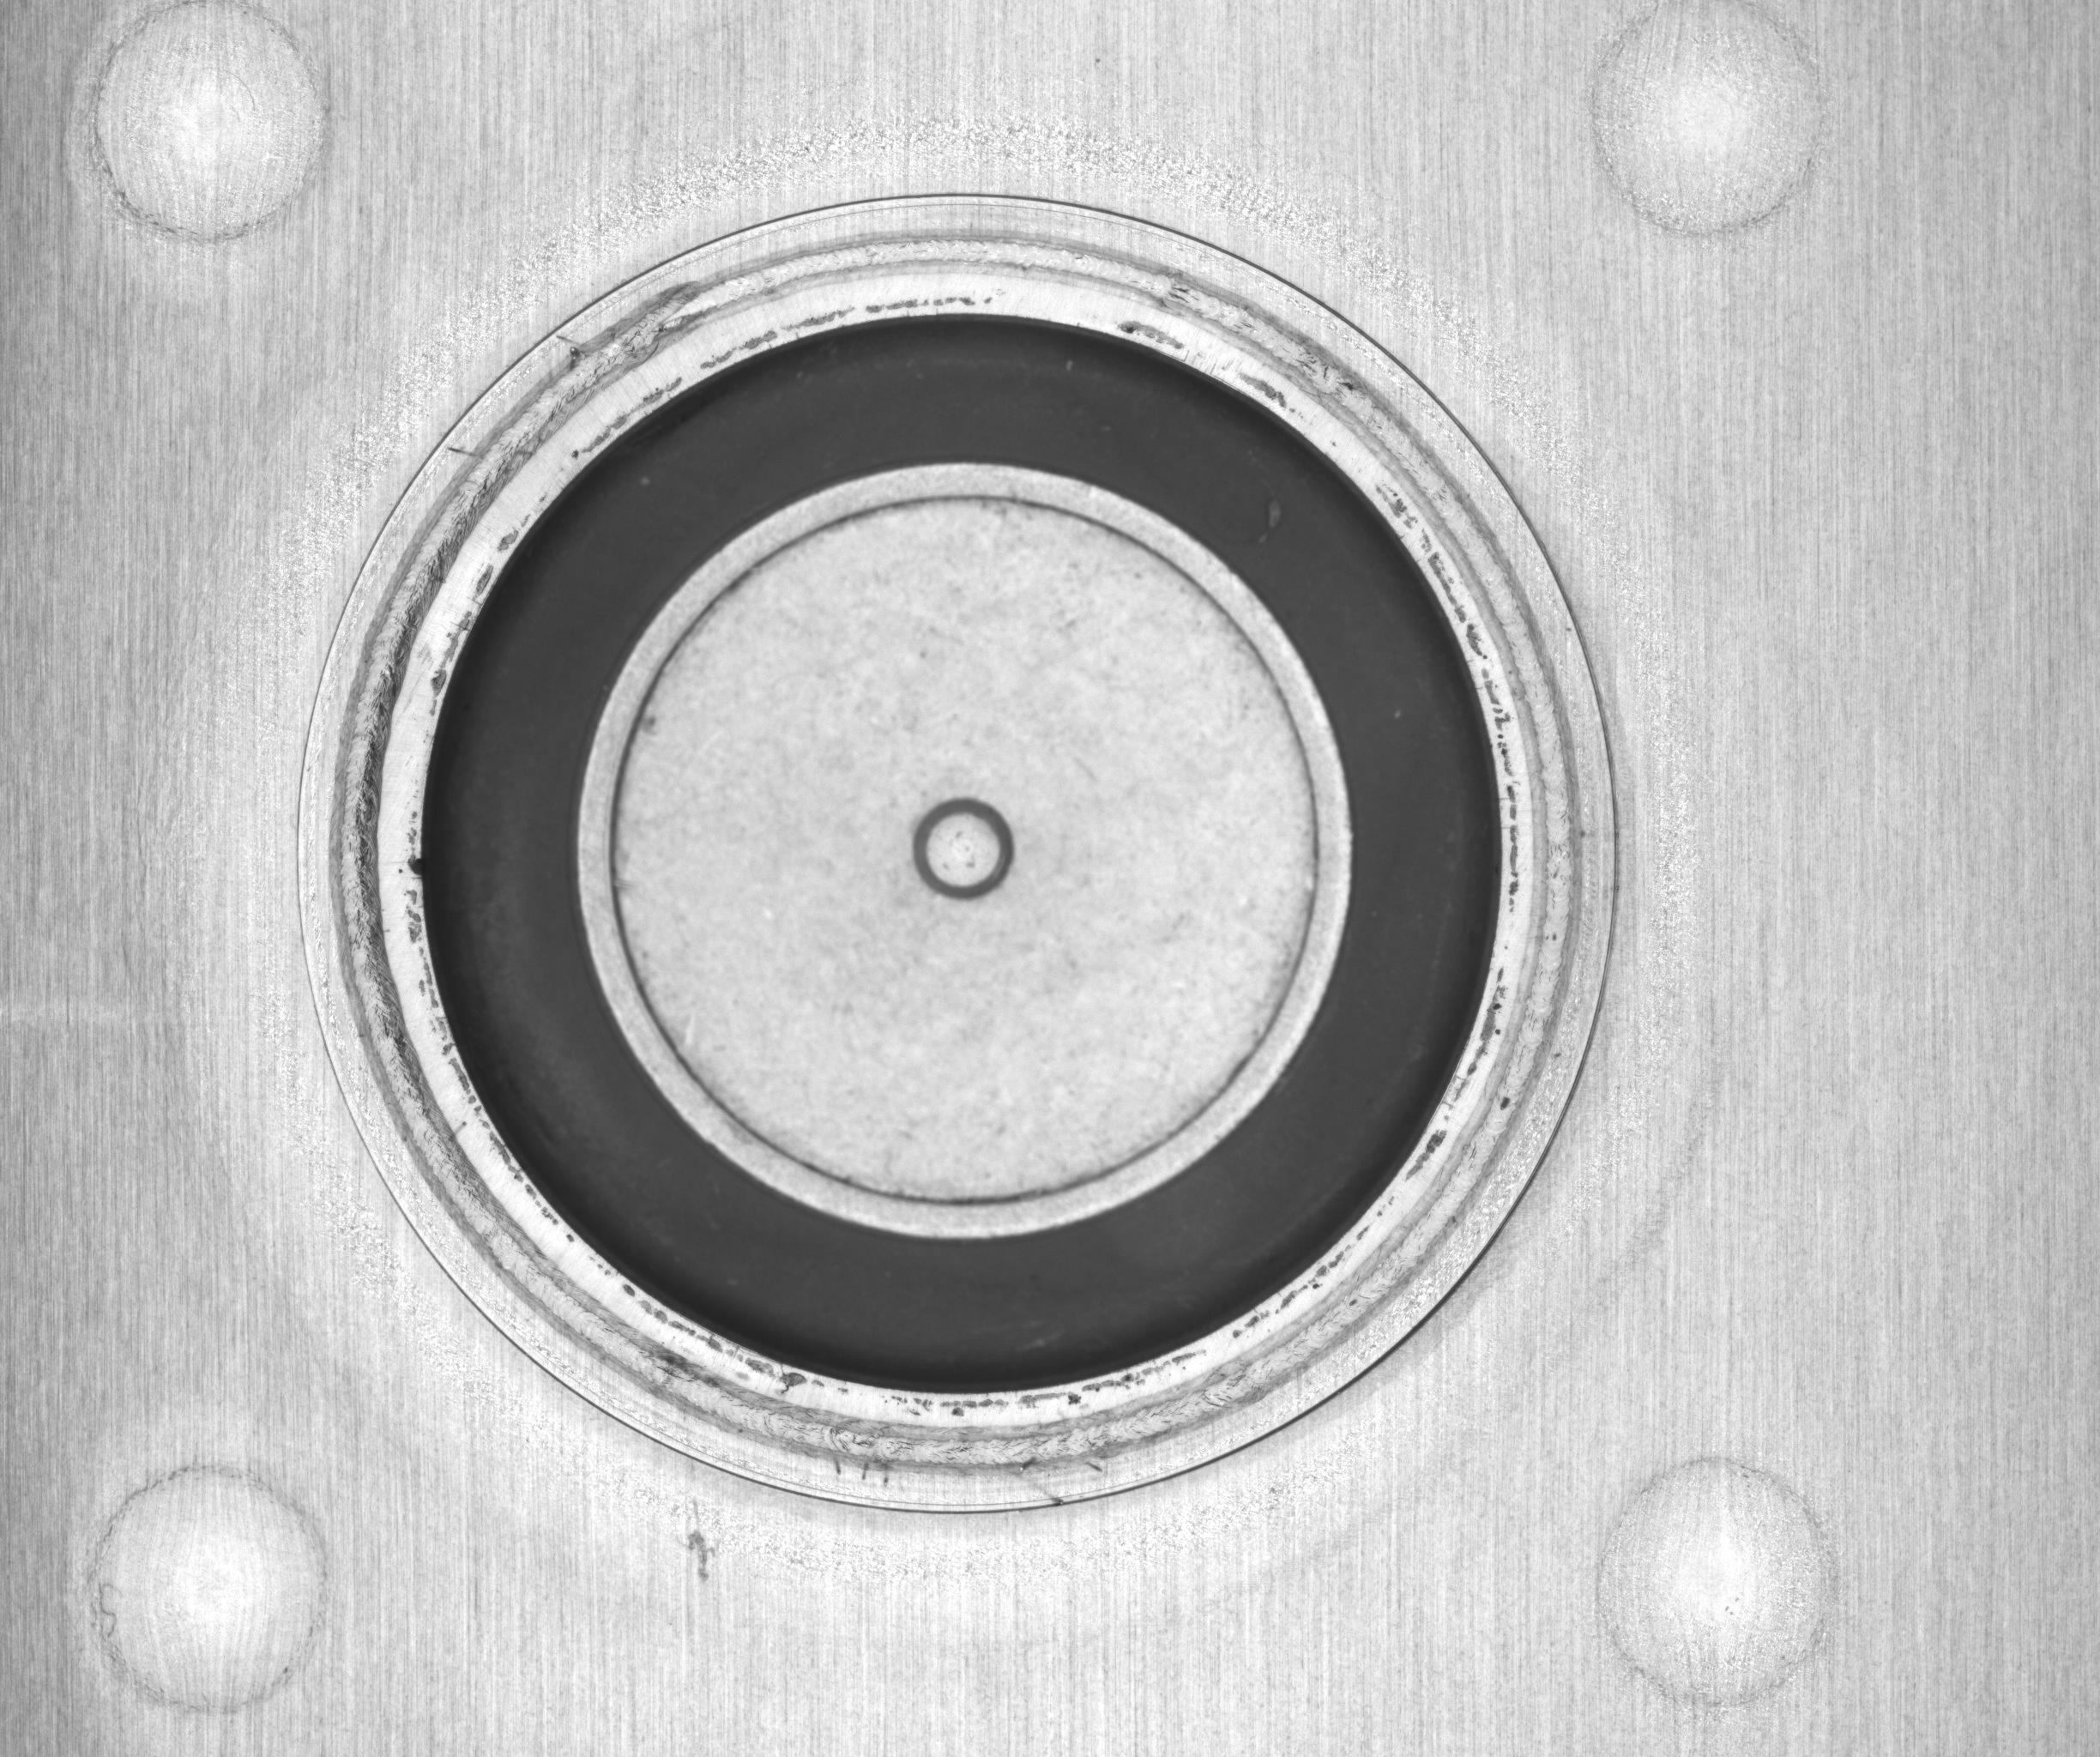normal: (284, 171, 1669, 1542)
